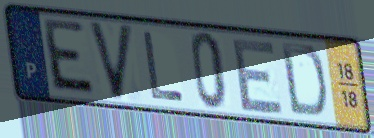0: (189, 30, 231, 114)
D: (277, 40, 328, 121)
E: (42, 15, 98, 99), (230, 37, 287, 116)
L: (140, 29, 187, 104)
V: (86, 18, 136, 104)
